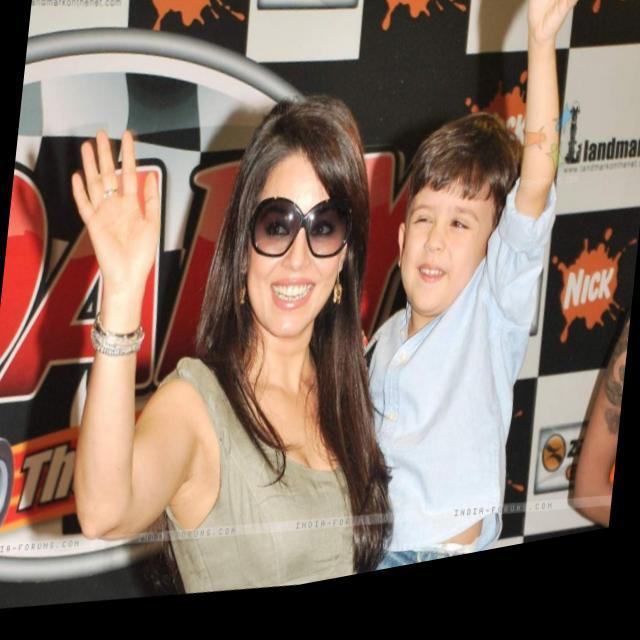Nonhelmet: (222, 85, 374, 346), (389, 102, 539, 320)
